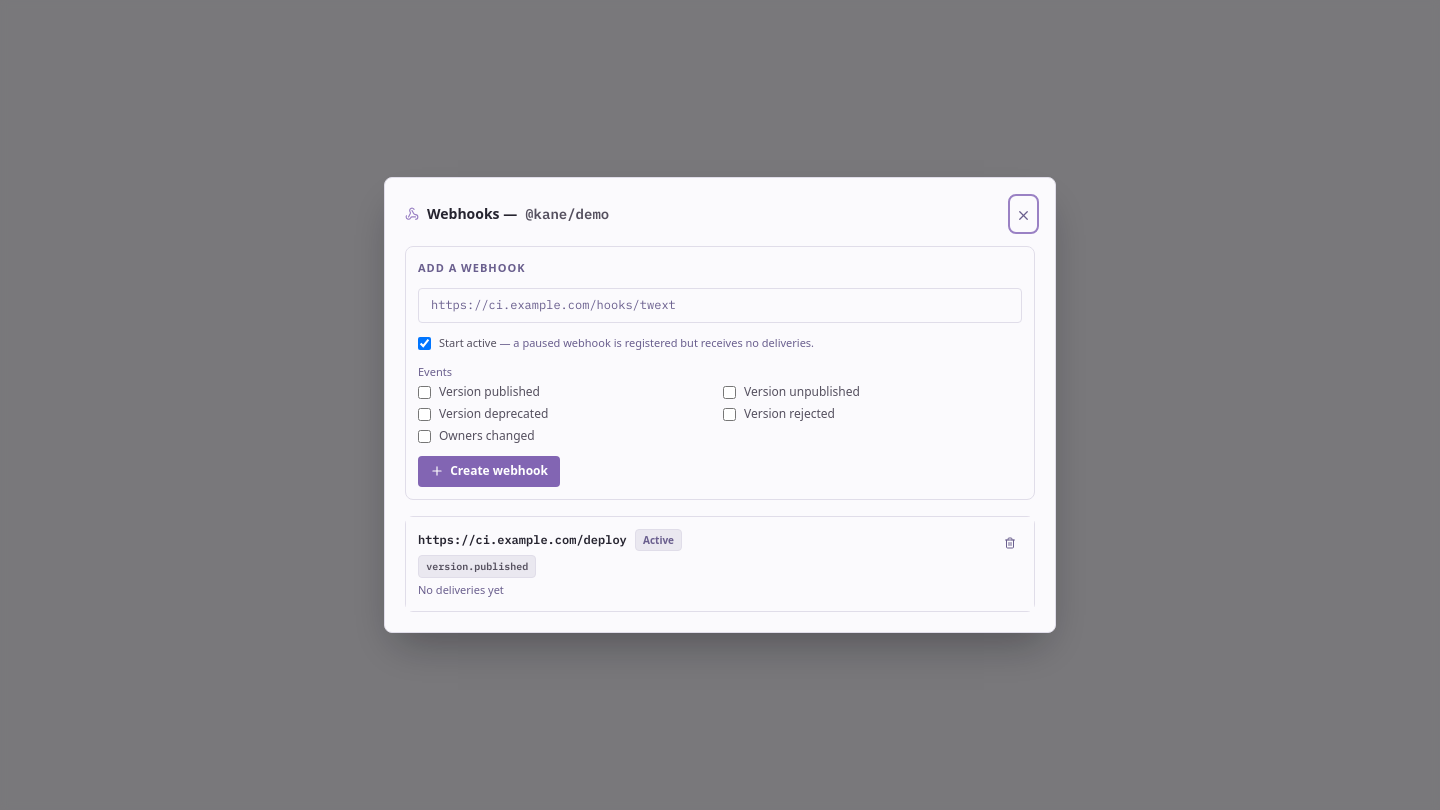
Scenario: WebhookPanel › confirms before deleting, then removes the webhook
The image size is (1440, 810).
Click the button named "Delete webhook".
click(1010, 543)  # box [998, 529, 1022, 557]
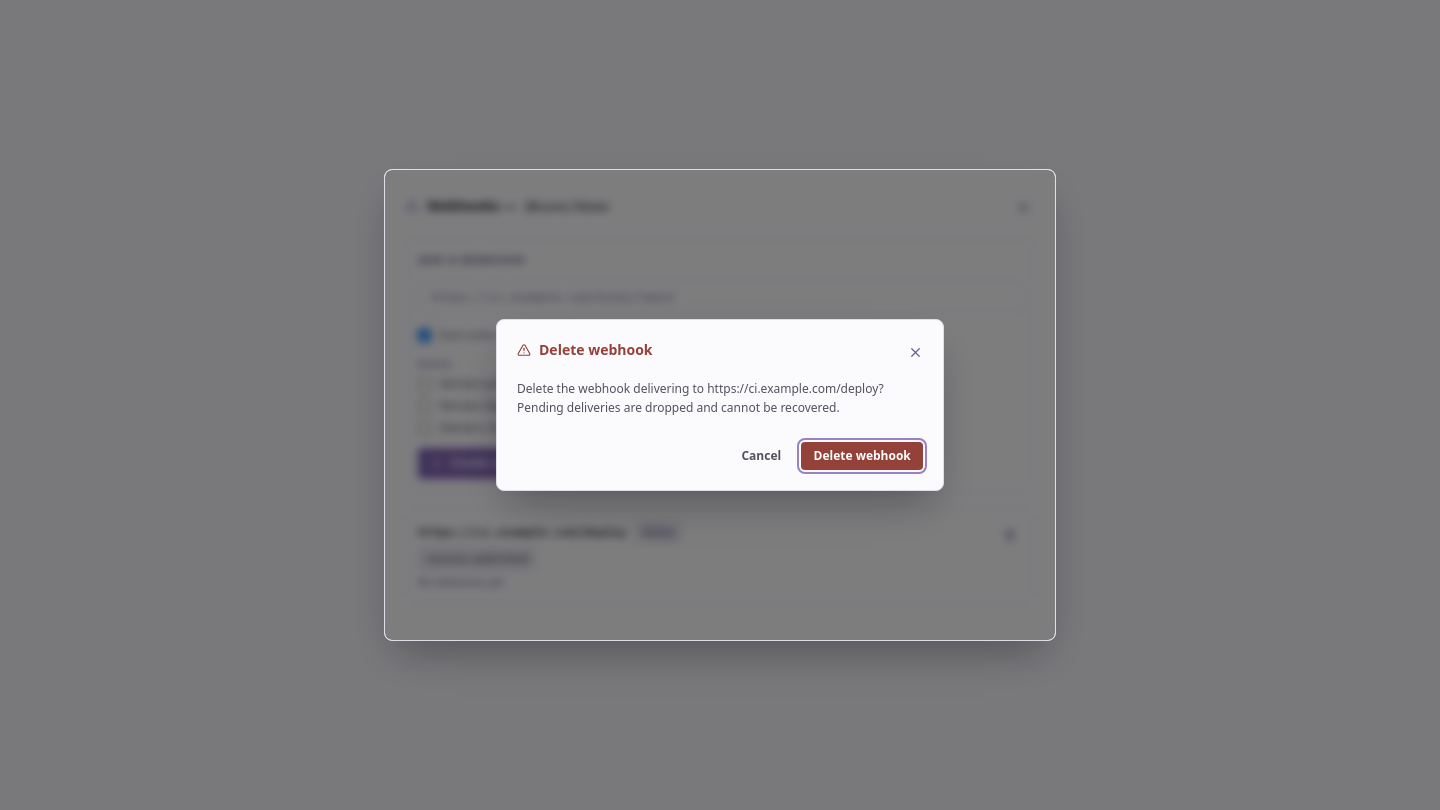
Click the button "Delete webhook".
click(862, 456)  # box [801, 442, 923, 470]
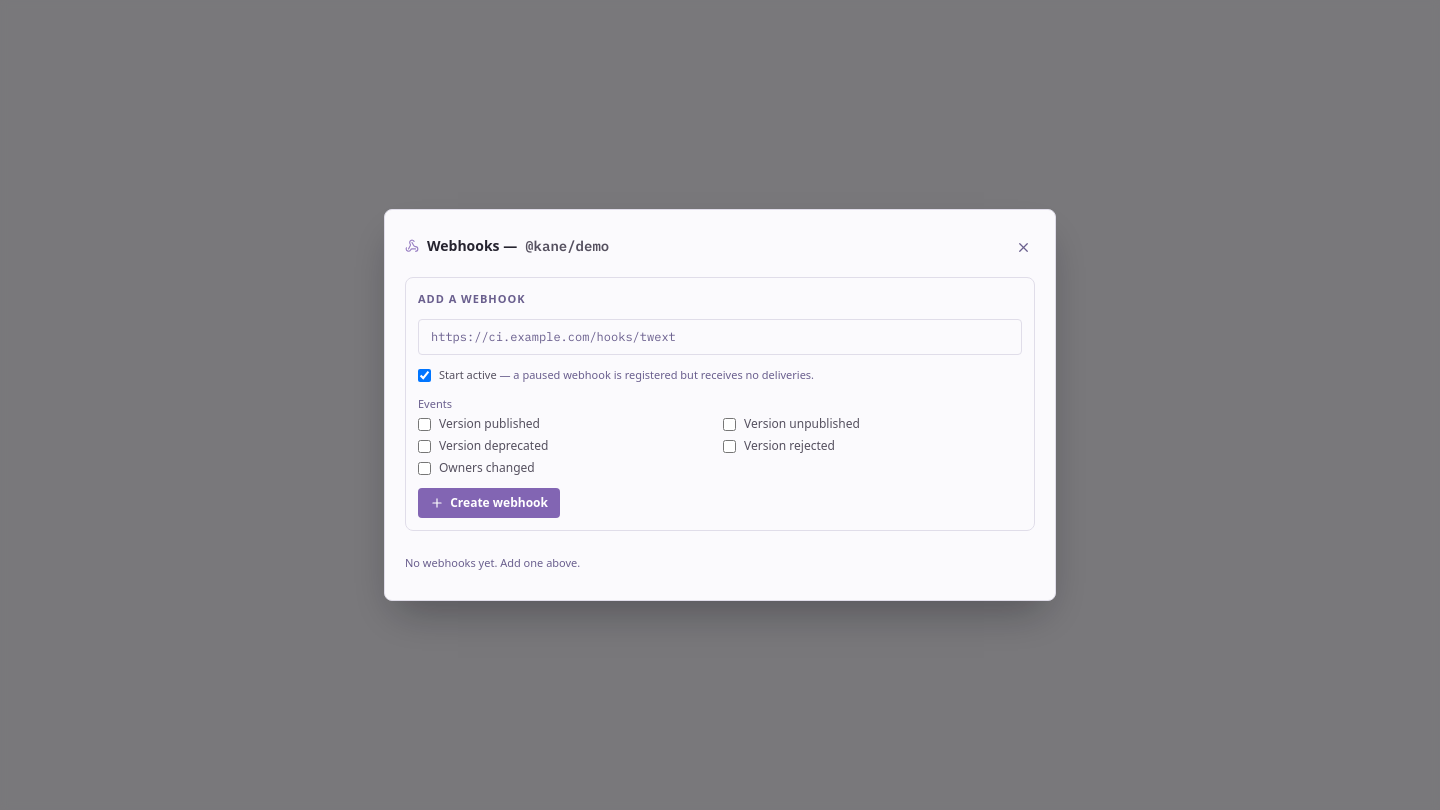
Expected: the text "https://ci.example.com/deploy" is gone
